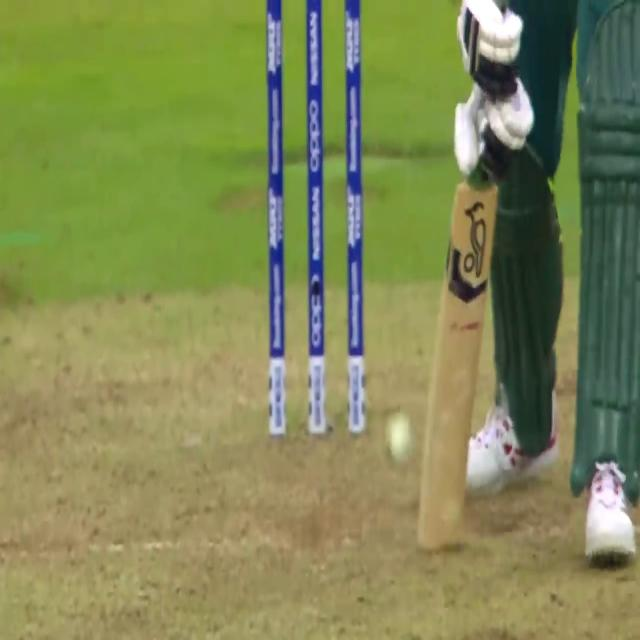ball: (378, 399, 421, 482)
